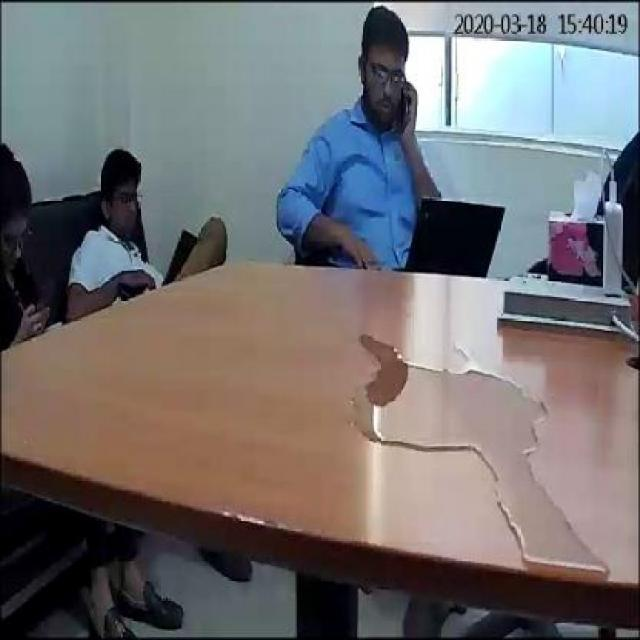spill: (338, 330, 614, 576)
